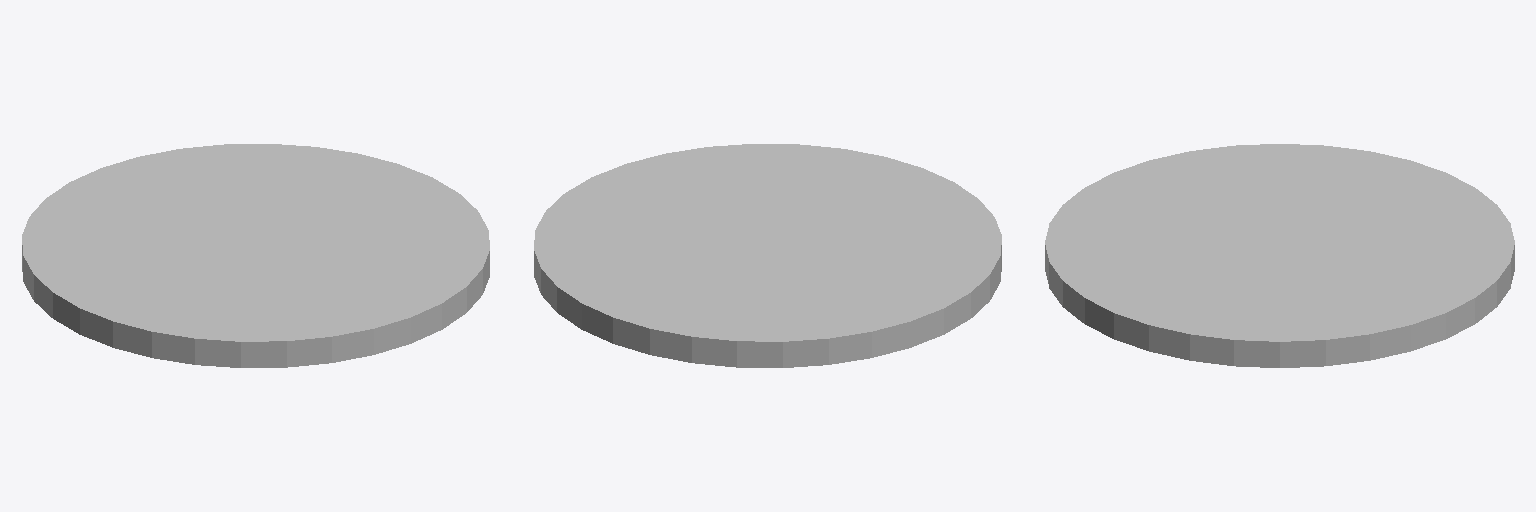
The model's file is rondellep.obj.
The picture shows the model from 3 angles: view 1: azimuth 30°, elevation 25°; view 2: azimuth 150°, elevation 25°; view 3: azimuth 270°, elevation 25°; orthographic projection.
Visible parts, largest first — view 1: Cylinder; view 2: Cylinder; view 3: Cylinder.
Boxes of the visible parts, <box> form: Cylinder: <box>22,144,489,367</box>; Cylinder: <box>534,144,1001,367</box>; Cylinder: <box>1045,144,1514,367</box>.
Bounding box in the file's own units: 16.48 × 1.02 × 16.51.